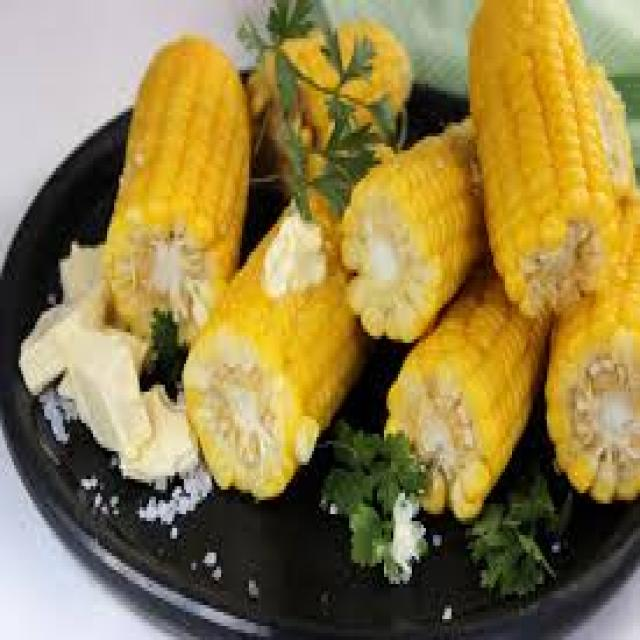corn: (170, 194, 343, 502), (459, 0, 626, 301), (99, 31, 254, 336), (371, 288, 549, 526), (546, 194, 640, 540), (332, 116, 476, 334)
